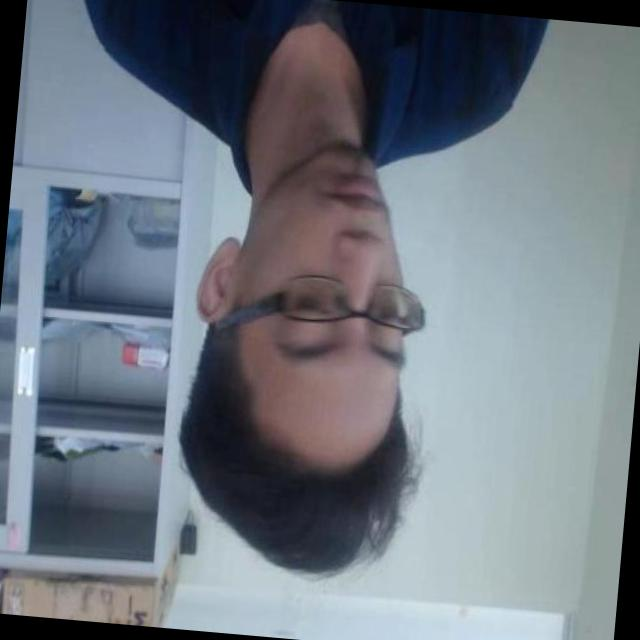bareface: (133, 148, 465, 580)
